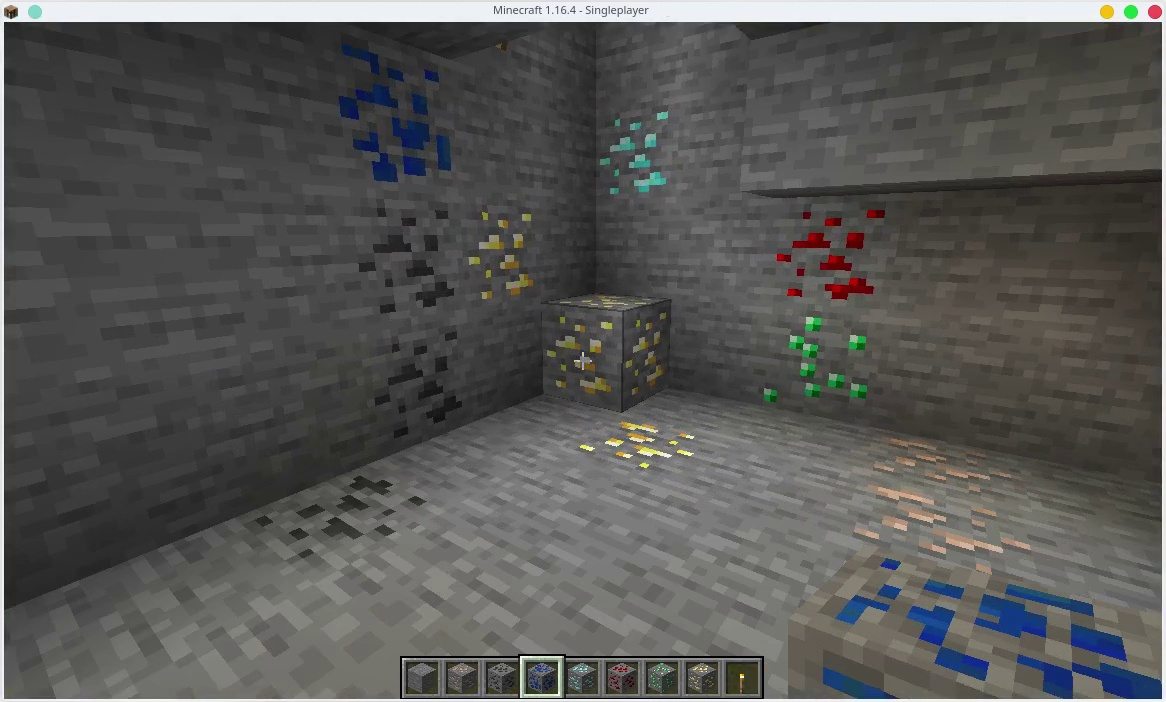gold: (544, 292, 671, 400), (574, 414, 699, 482), (463, 213, 542, 293), (687, 658, 717, 694)
